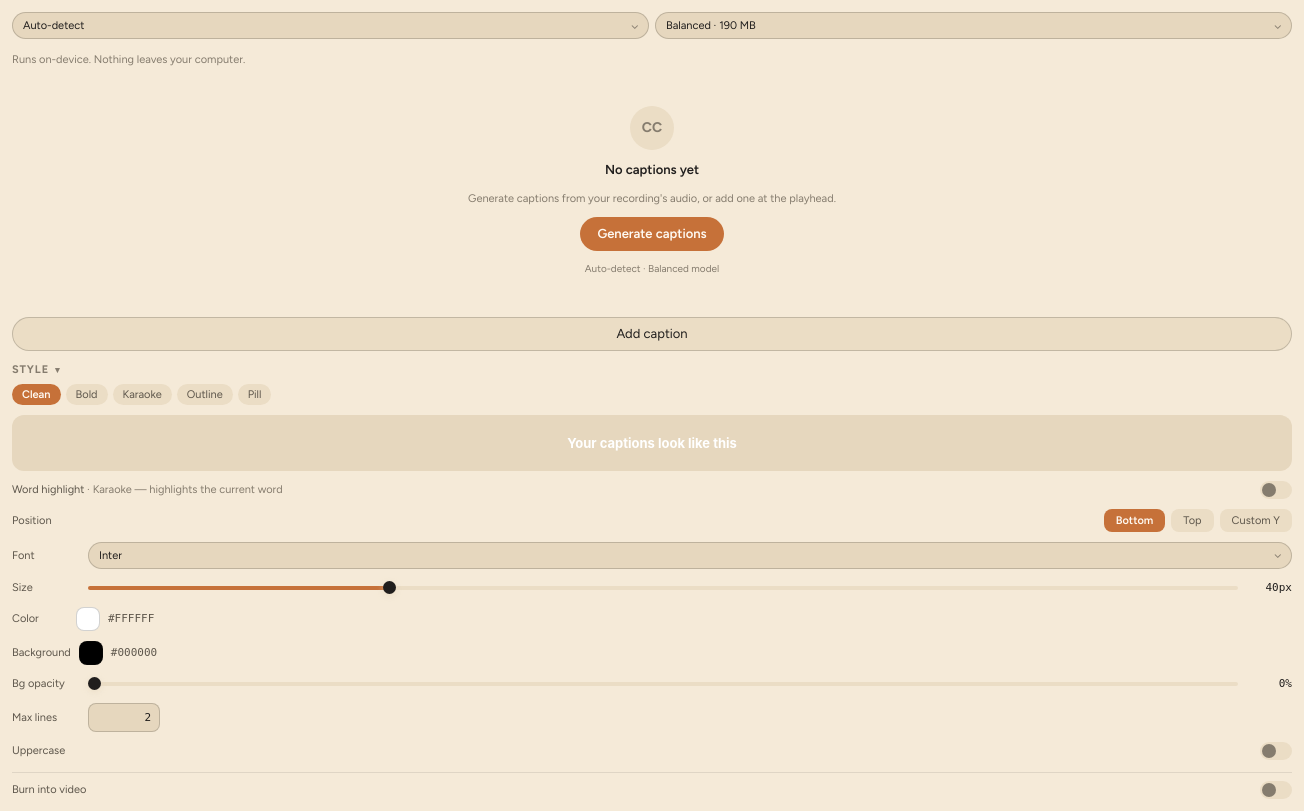
Test case: CaptionsInspector — generate controls, style, export › preset chips apply preset fields
This screenshot has width=1304, height=811.
Click the radio button labelled "Karaoke".
click(142, 394)  # box [112,384,172,405]
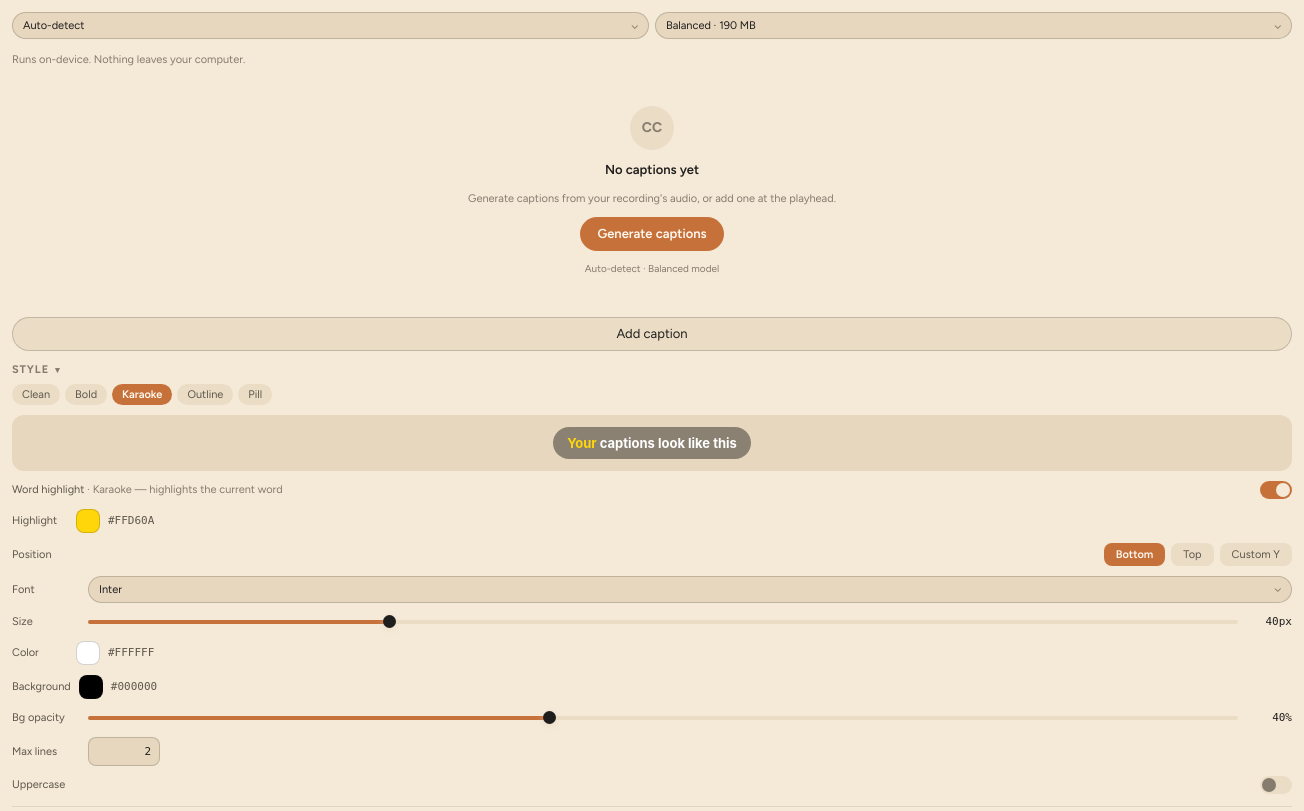
Check: the colour field labelled "Highlight" is shown, box [12,514,57,527]
